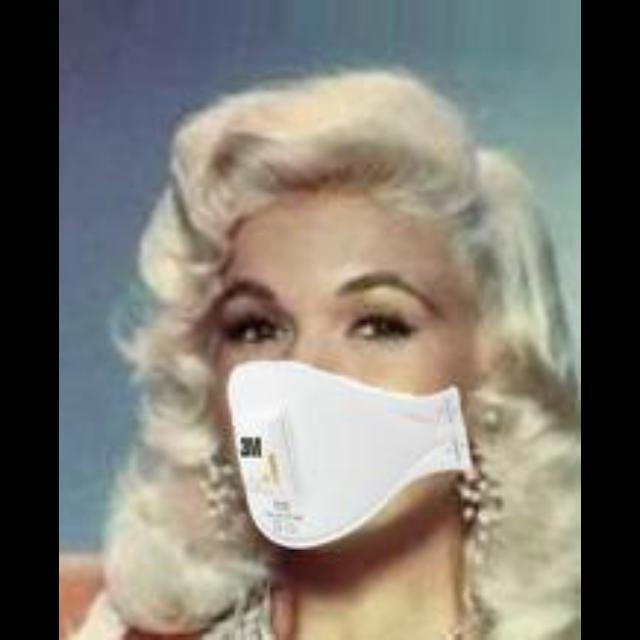suspicion: (158, 152, 500, 564)
